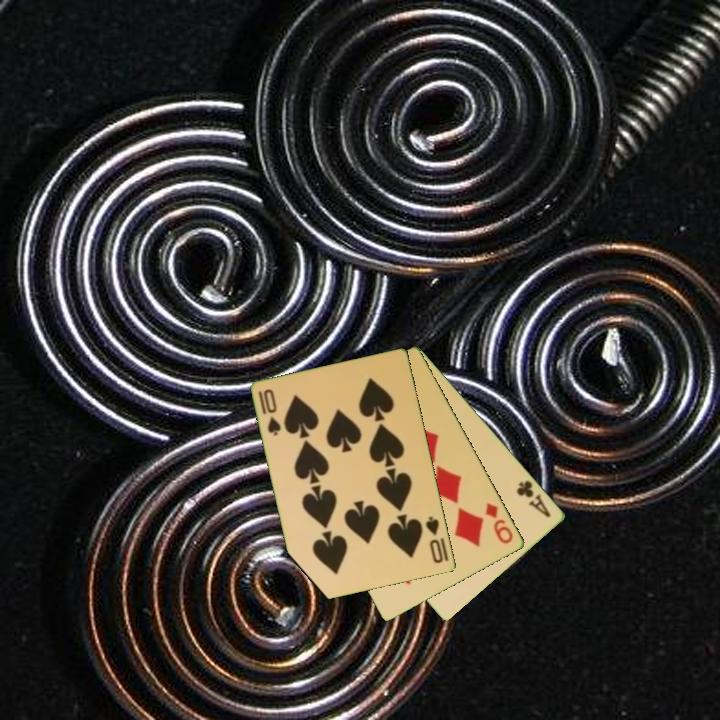10s: (255, 385, 284, 439), (422, 513, 446, 566)
9d: (482, 499, 516, 547)
Ac: (513, 476, 554, 520)
